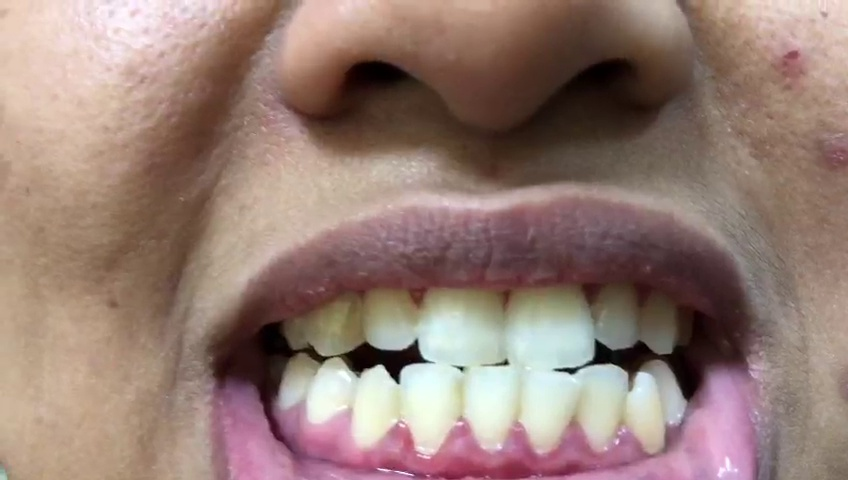1st Premolar: (307, 357, 356, 421), (644, 359, 688, 426)
2nd Premolar: (279, 353, 316, 409)
Canine: (299, 285, 361, 356), (353, 365, 396, 451), (627, 371, 668, 455), (644, 285, 679, 354)
Central Incisor: (507, 274, 596, 368), (419, 271, 507, 366), (519, 368, 575, 457), (464, 363, 518, 454)
Lateral Incisor: (401, 362, 464, 456), (576, 364, 628, 451), (360, 282, 419, 351), (592, 279, 641, 350)
